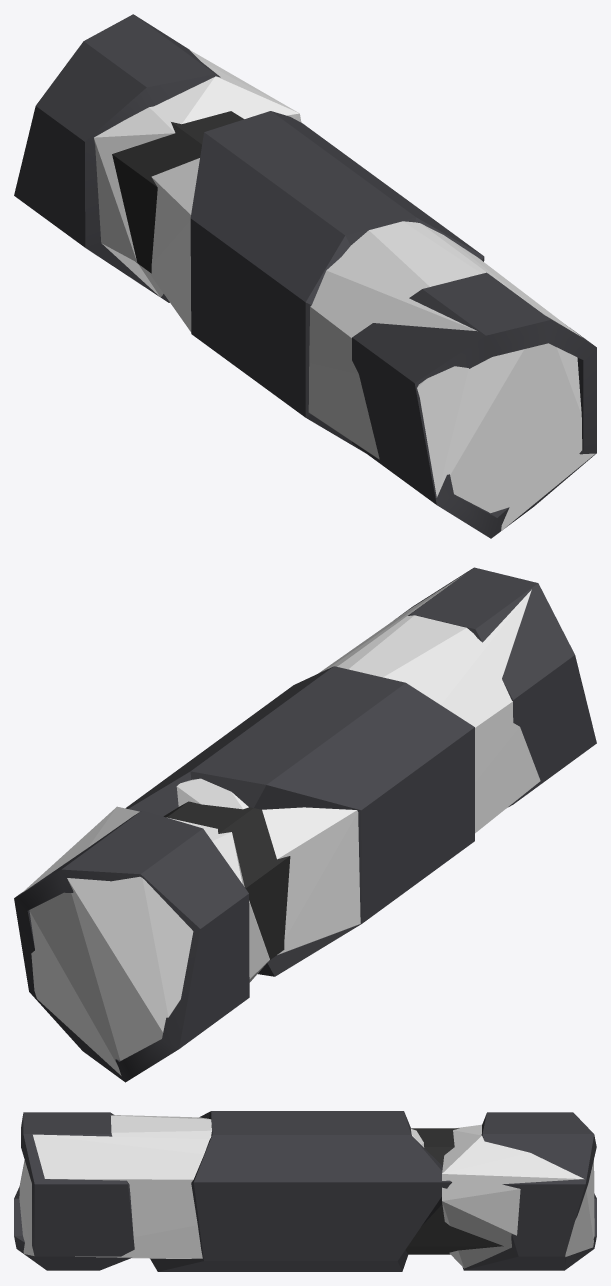
Rendered from SM_Env_Debris_Pipe_01.fbx.
3 renders of one model, top to bottom at view 1: azimuth 30°, elevation 25°; view 2: azimuth 150°, elevation 25°; view 3: azimuth 270°, elevation 25°, orthographic. The views are drawn at different scales.
Visible parts, largest first — view 1: SM_Env_Debris_Pipe_01_LOD0, SM_Env_Debris_Pipe_01_ConvexHulls; view 2: SM_Env_Debris_Pipe_01_LOD0, SM_Env_Debris_Pipe_01_ConvexHulls; view 3: SM_Env_Debris_Pipe_01_LOD0, SM_Env_Debris_Pipe_01_ConvexHulls.
Part boxes in pixels (x1,y1,x2,y2): SM_Env_Debris_Pipe_01_LOD0: (14, 14, 596, 538); SM_Env_Debris_Pipe_01_ConvexHulls: (94, 50, 595, 530); SM_Env_Debris_Pipe_01_LOD0: (14, 567, 596, 1082); SM_Env_Debris_Pipe_01_ConvexHulls: (21, 574, 540, 1075); SM_Env_Debris_Pipe_01_LOD0: (14, 1111, 596, 1271); SM_Env_Debris_Pipe_01_ConvexHulls: (19, 1115, 594, 1268).
Size of the model in its own units: 621 by 155 by 161.
Materials: 1 (1 with a texture image).
